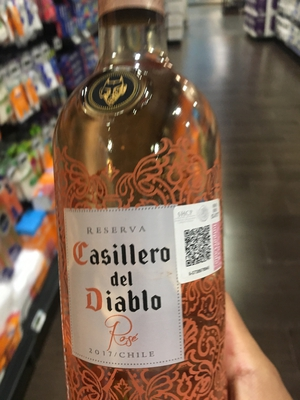casillero del diablo rose: (45, 18, 223, 400)
